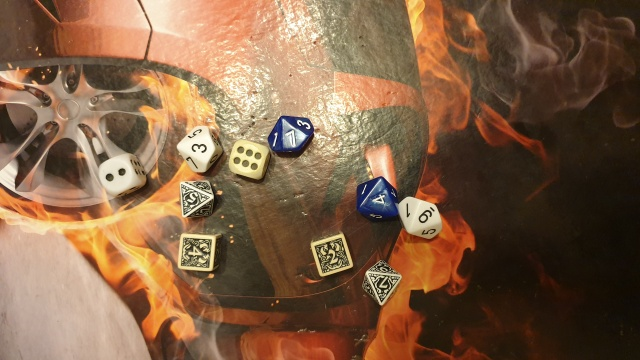d10-3: (172, 120, 224, 176)
d10-4: (356, 176, 397, 221)
d10-7: (267, 114, 318, 155)
d10-9: (398, 192, 447, 244)
d6-2: (95, 155, 146, 195)
d6-6: (228, 138, 269, 181)
d6p-2: (309, 232, 355, 277)
d6p-4: (177, 233, 221, 272)
d8p-5: (178, 177, 219, 221)
d8p-7: (363, 258, 401, 307)
